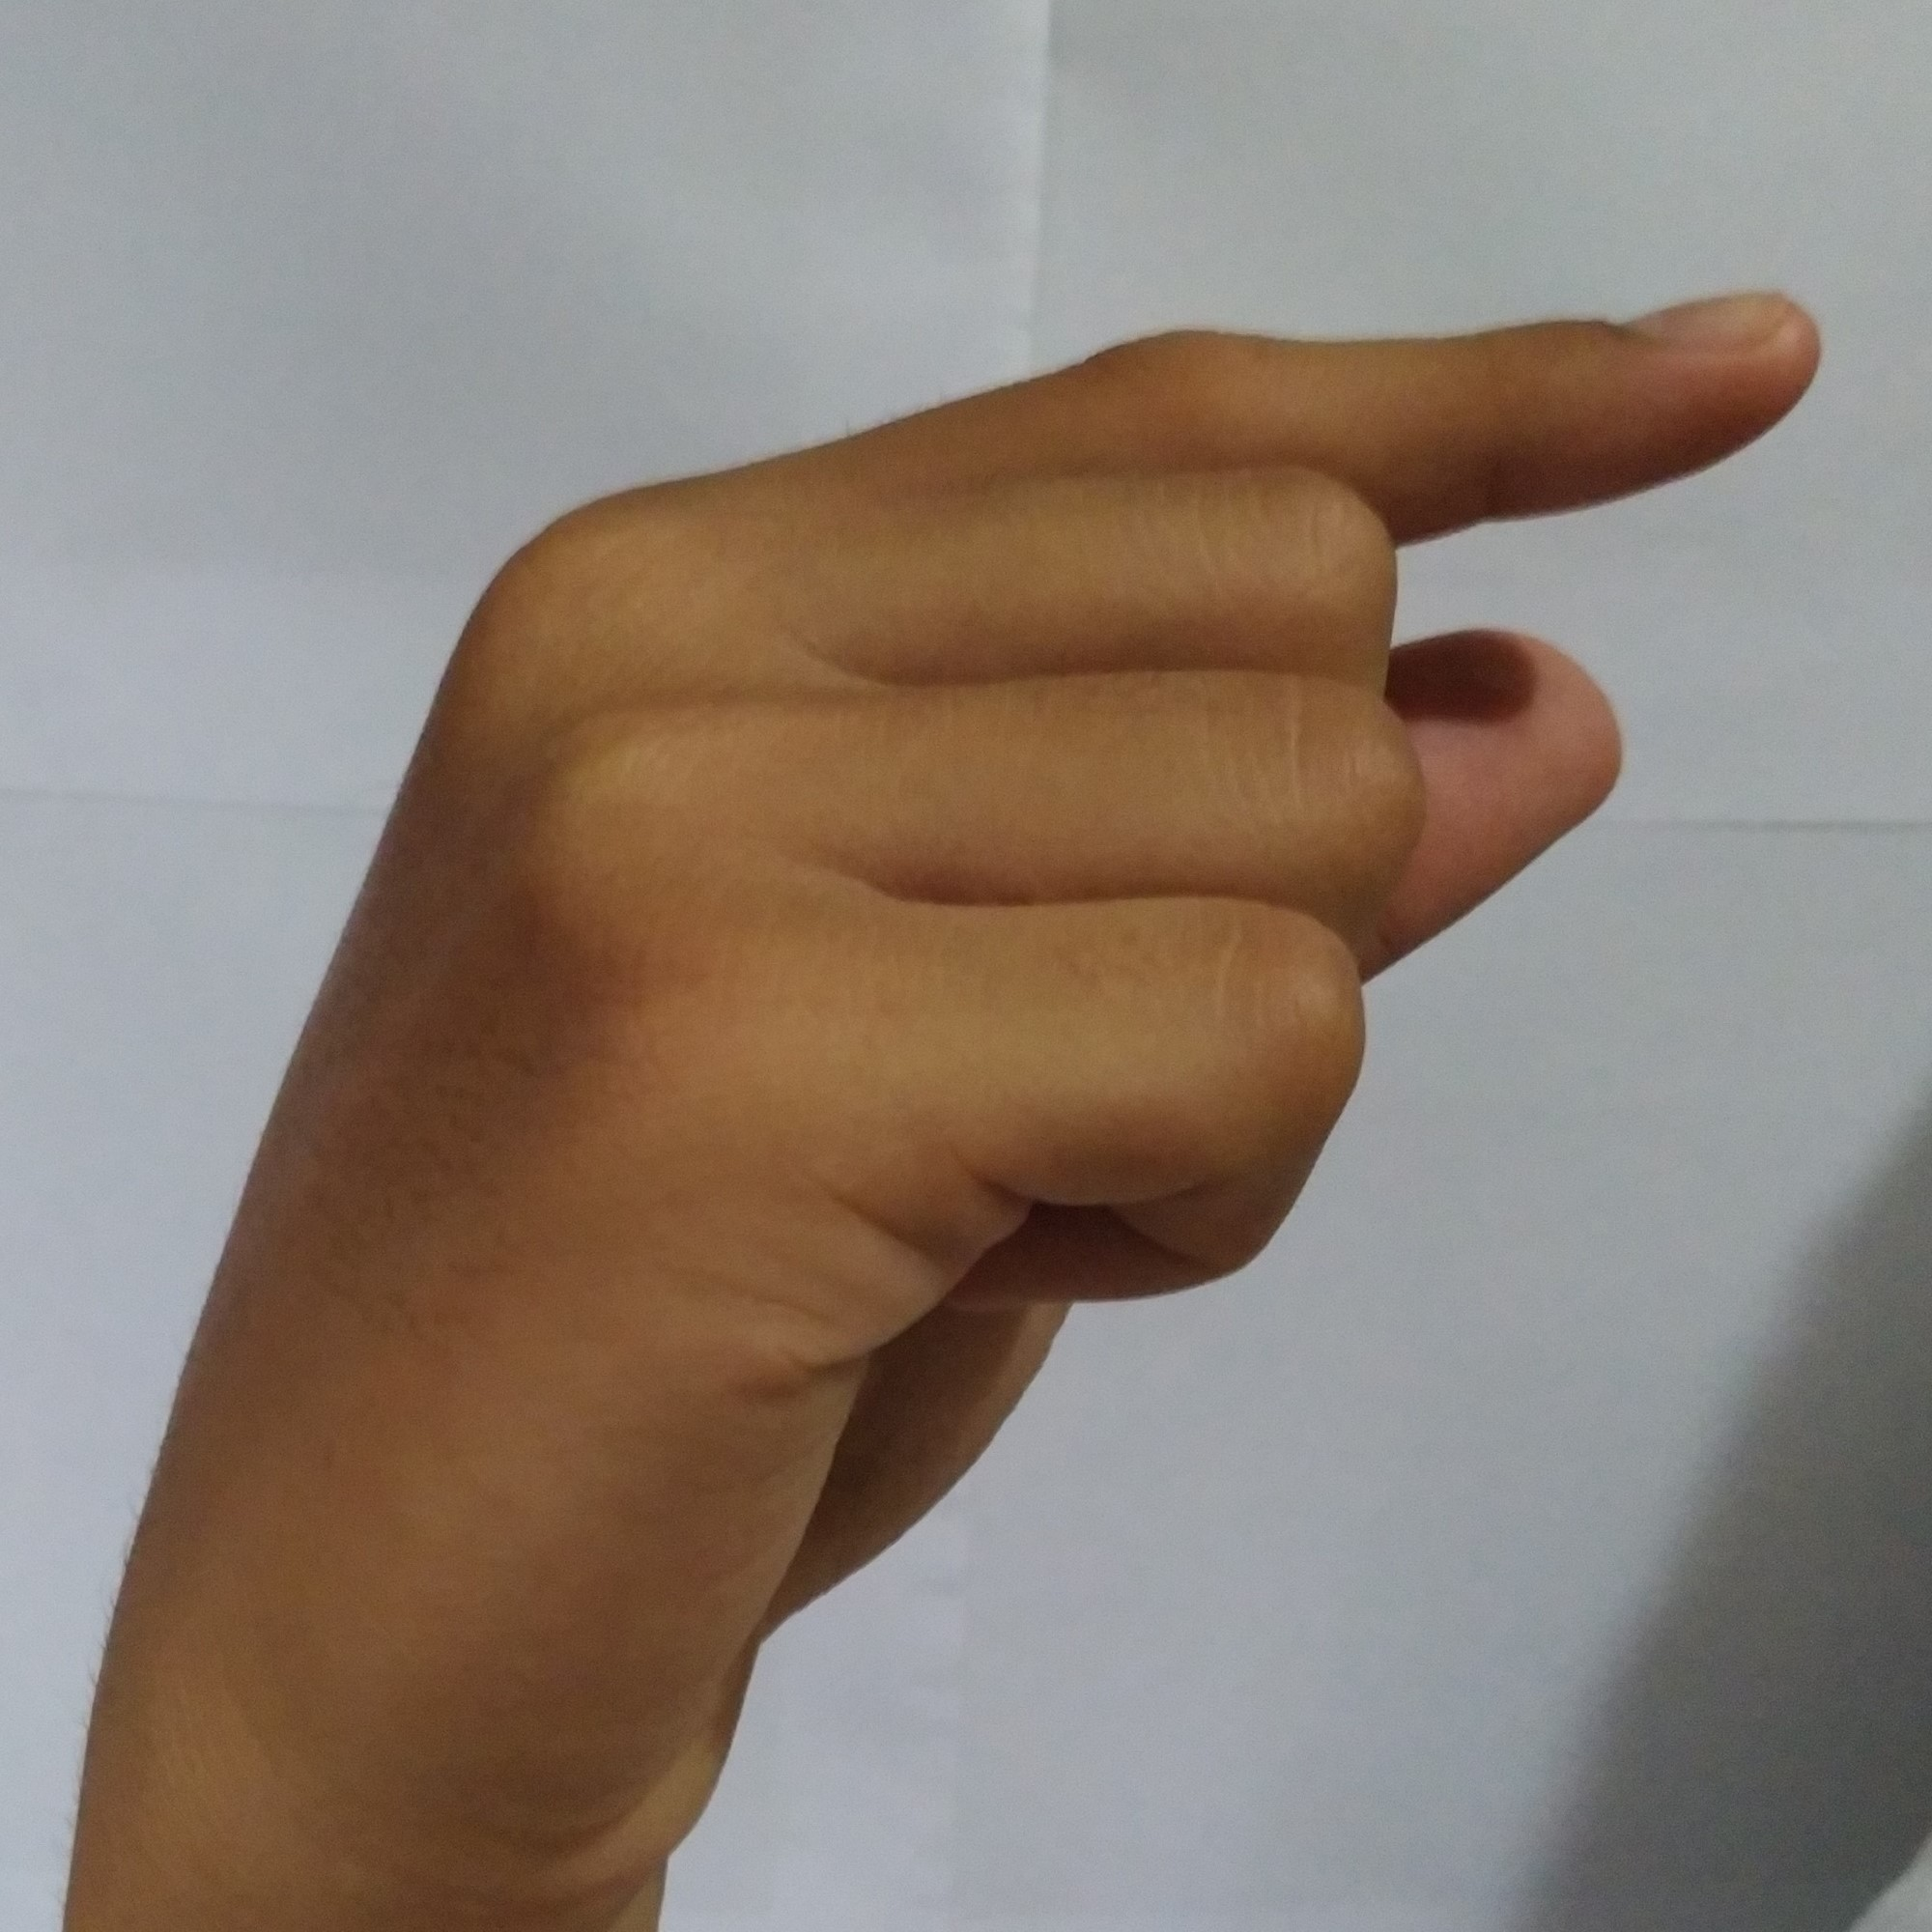G: (106, 267, 1847, 1635)
